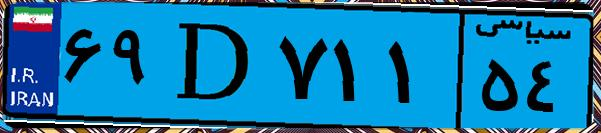1: (385, 28, 445, 110), (330, 28, 385, 110)
4: (525, 38, 570, 115)
5: (475, 38, 525, 113)
6: (57, 26, 110, 100)
7: (270, 28, 330, 110)
9: (110, 28, 158, 98)
D: (158, 12, 270, 120)
